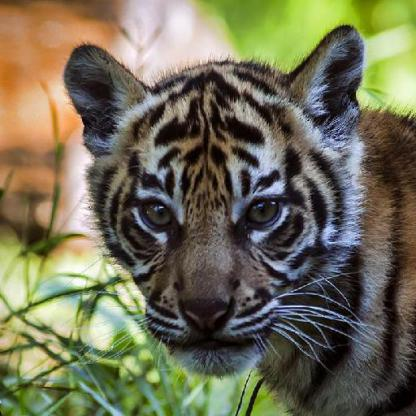tiger: (56, 35, 376, 374)
